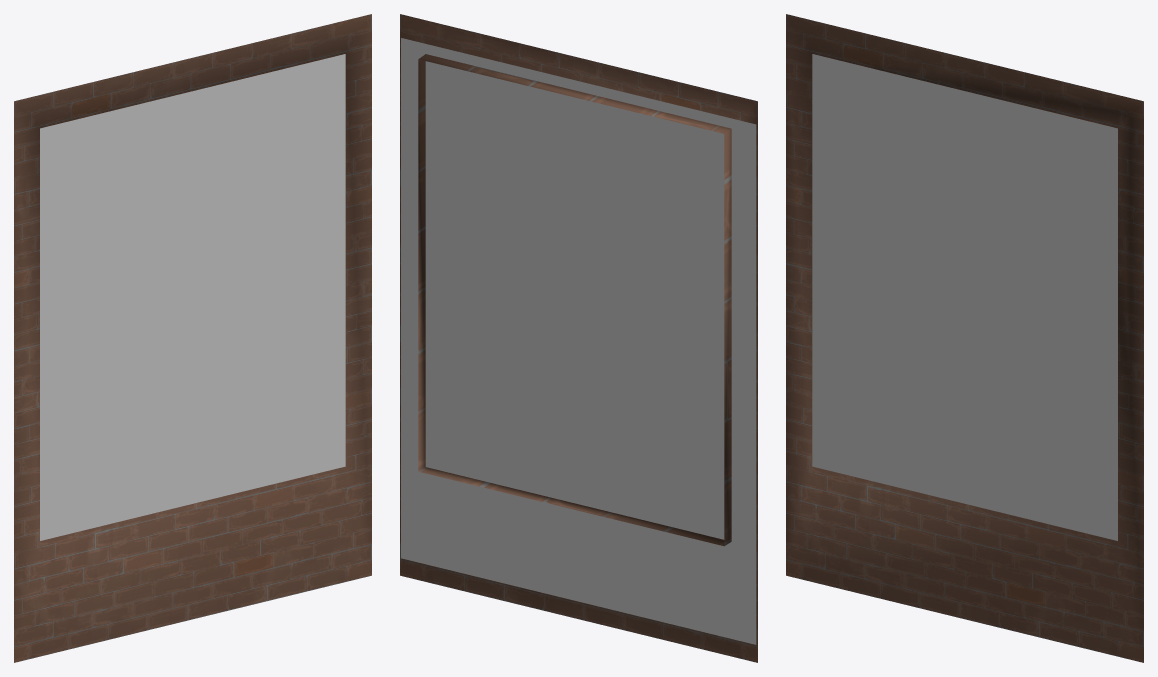
File: FirstFloor_Window.fbx
3 renders of one model, left to right at view 1: azimuth 30°, elevation 25°; view 2: azimuth 150°, elevation 25°; view 3: azimuth 330°, elevation 25°, orthographic.
Visible parts, largest first — view 1: FirstFloor_Window; view 2: FirstFloor_Window; view 3: FirstFloor_Window.
Part boxes in pixels (x1,y1,x2,y2): FirstFloor_Window: (14,14,371,662); FirstFloor_Window: (400,14,757,662); FirstFloor_Window: (786,14,1143,662).
Bounding box in the file's own units: 200 × 300 × 7.4.
